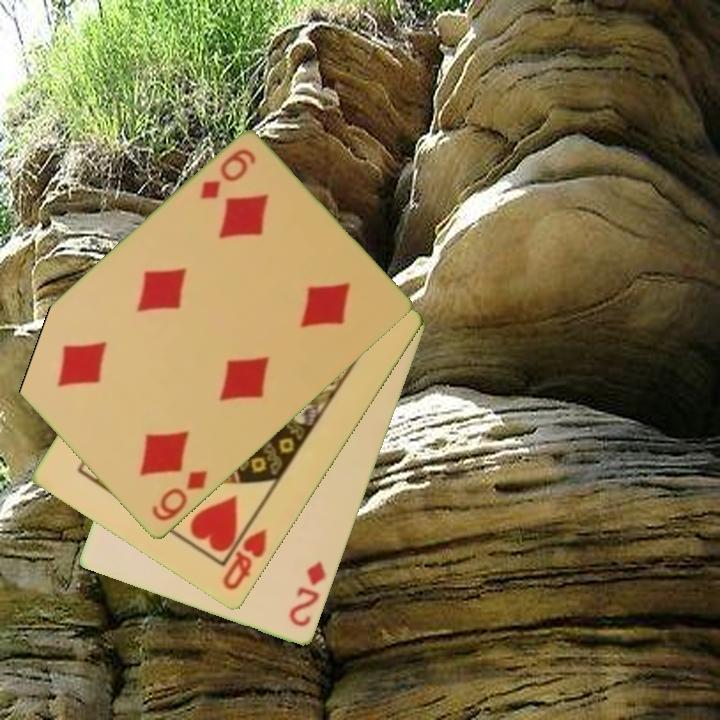2d: (285, 558, 329, 631)
6d: (148, 467, 211, 525), (196, 145, 259, 203)
Qh: (219, 525, 270, 594)
